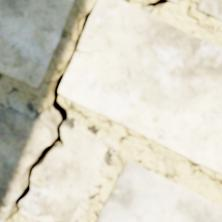brick: (58, 0, 221, 174), (95, 160, 221, 221), (0, 0, 74, 88), (195, 0, 221, 21), (168, 0, 178, 3)
broken_brick: (18, 125, 106, 221), (0, 107, 49, 206)
crack: (0, 2, 96, 220), (140, 0, 168, 13)
